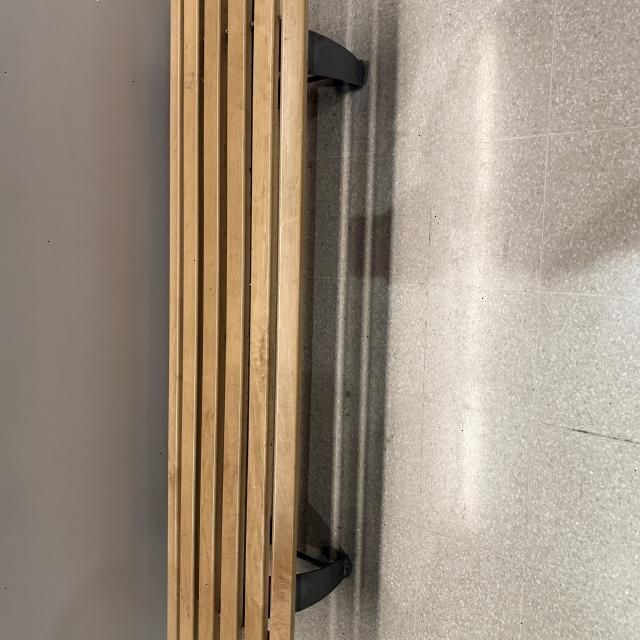Bench: (3, 208, 480, 478)
